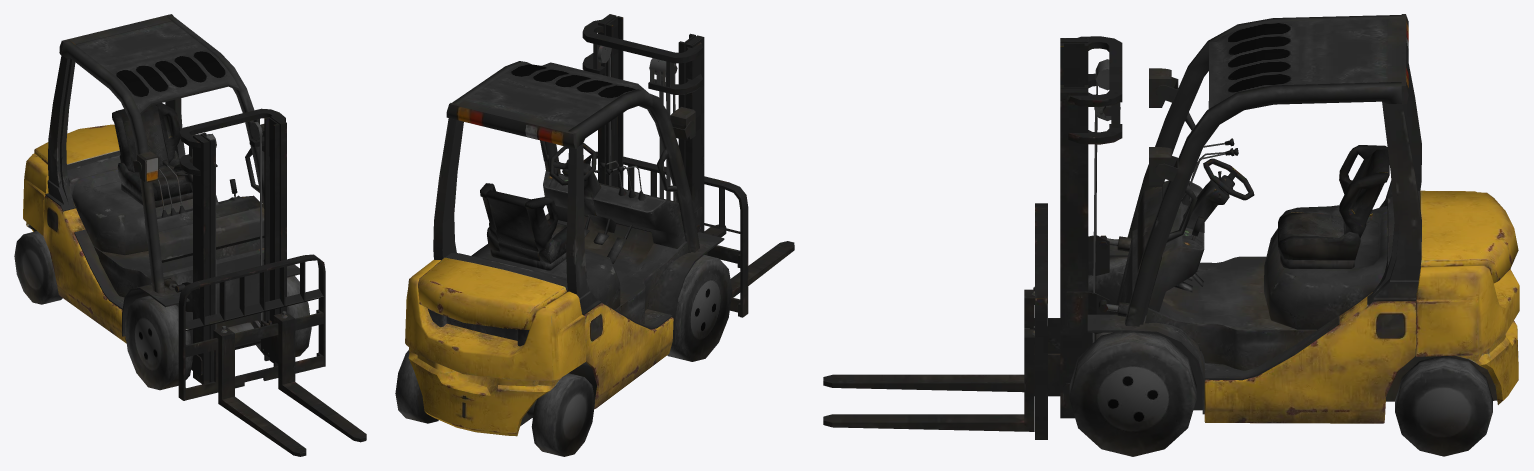
The model's file is forklift.glb.
3 views of the same model, side by side, from view 1: azimuth 30°, elevation 25°; view 2: azimuth 150°, elevation 25°; view 3: azimuth 270°, elevation 25° (orthographic). The views are drawn at different scales.
Visible parts, largest first — view 1: Loader_car_Loader_car_Material_0; view 2: Loader_car_Loader_car_Material_0; view 3: Loader_car_Loader_car_Material_0.
Boxes of the visible parts, box(x1,y1,x2,y2) form: Loader_car_Loader_car_Material_0: box(14, 14, 366, 456); Loader_car_Loader_car_Material_0: box(395, 14, 794, 456); Loader_car_Loader_car_Material_0: box(823, 14, 1519, 456).
Bounding box in the file's own units: 118 × 212 × 371.
Materials: 1 (1 with a texture image).
